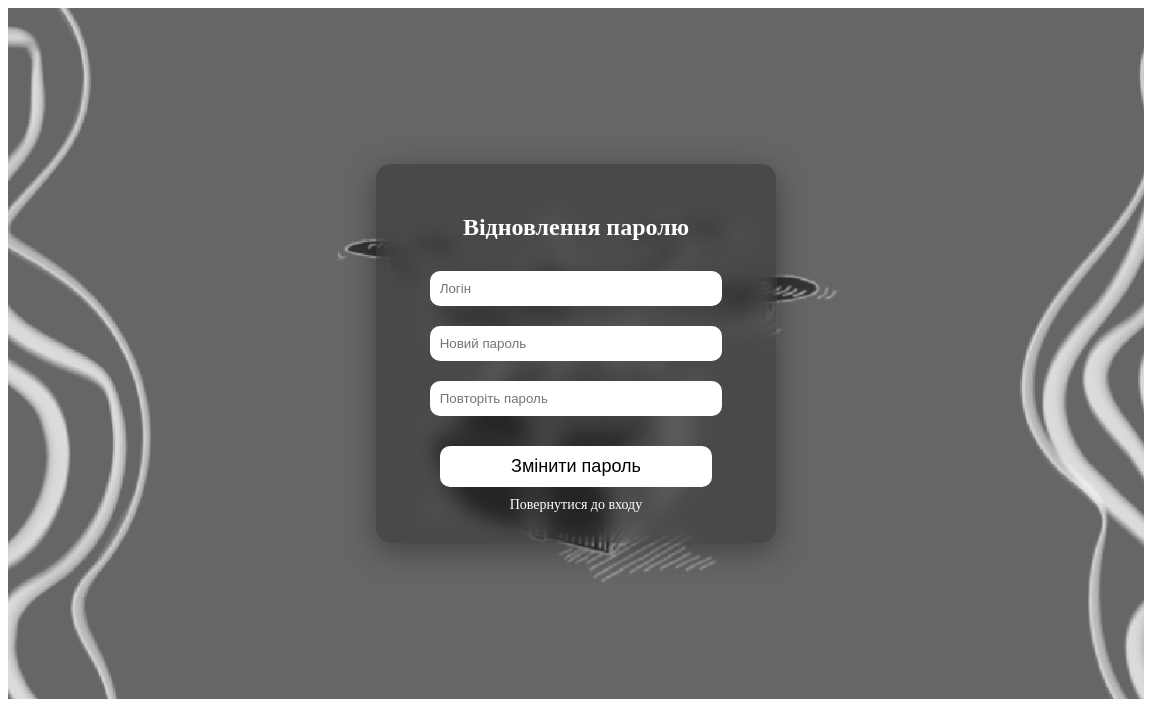
Password Recovery Box › повинен показувати помилку, якщо паролі не співпадають
Type "testuser" into the field with placeholder "Логін" at [577, 289], box [430,271,723,306]
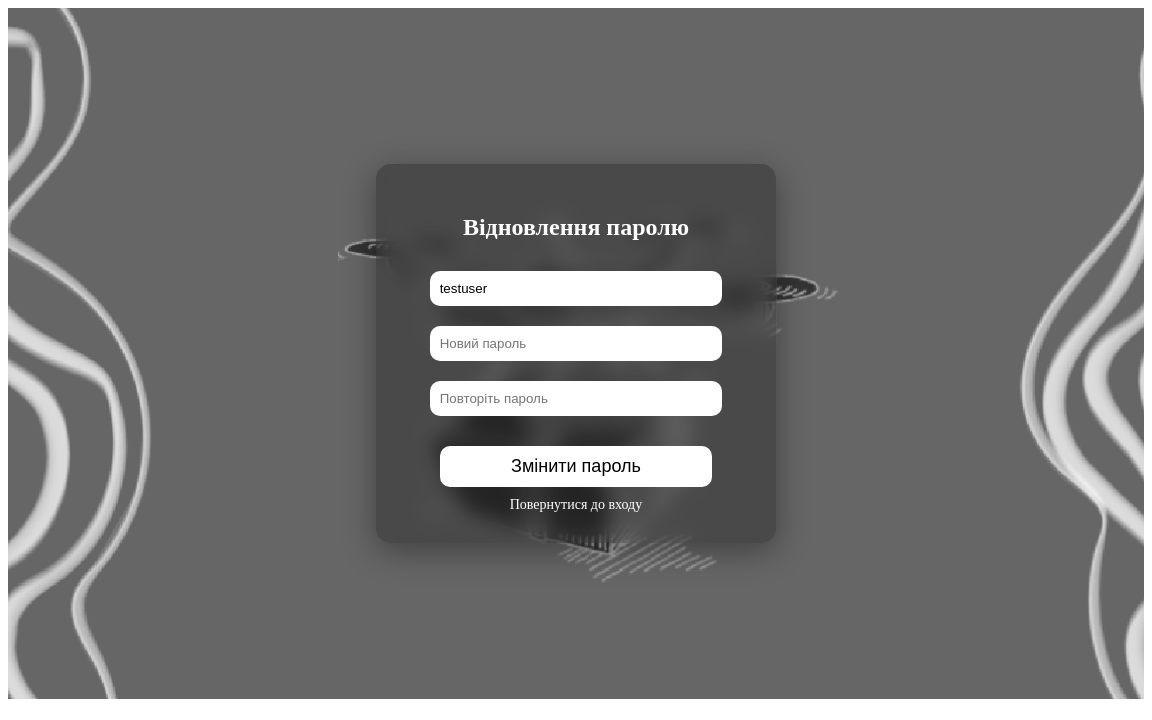
Type "password123" into the password field with placeholder "Новий пароль" at [577, 344], box [430,326,723,361]
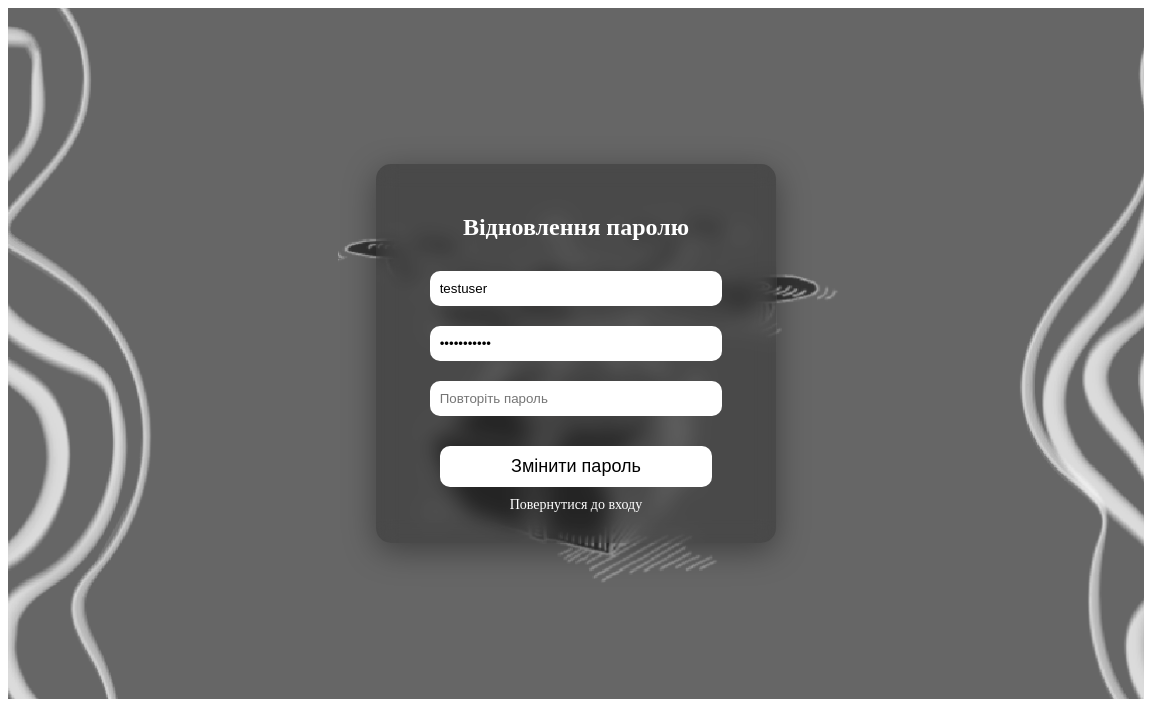
Type "password124" into the password field with placeholder "Повторіть пароль" at [577, 399], box [430,381,723,416]
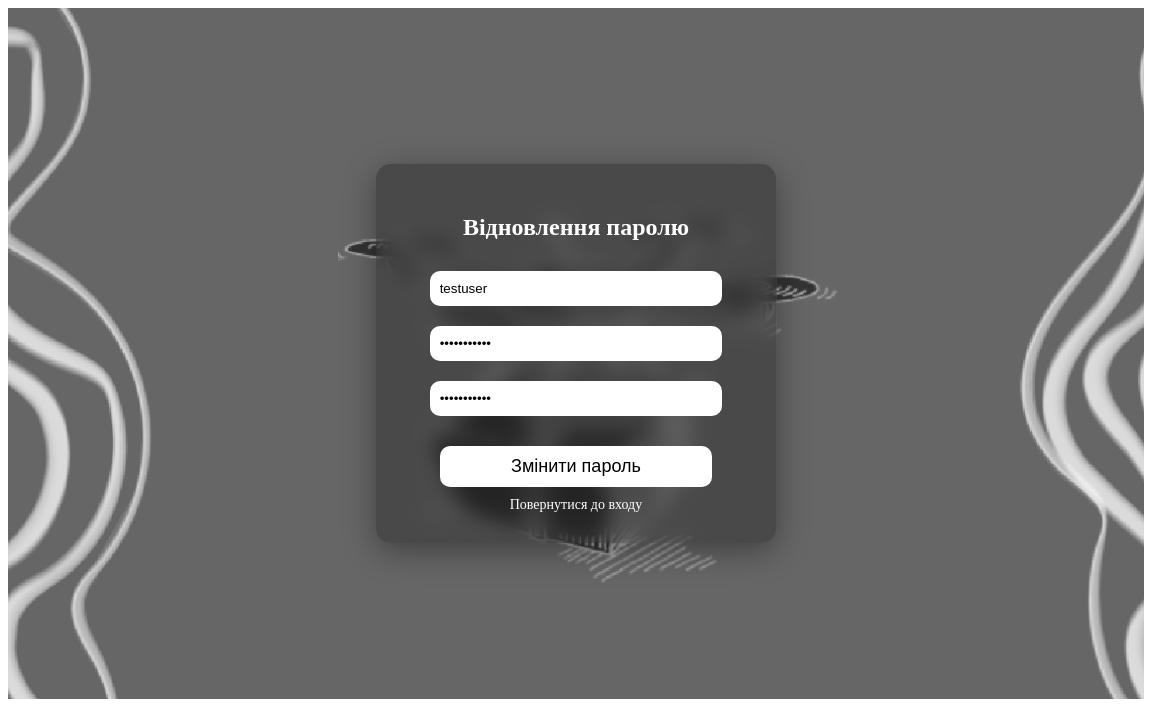
Click the button with class "next-button" at [577, 467], box [440,446,713,487]
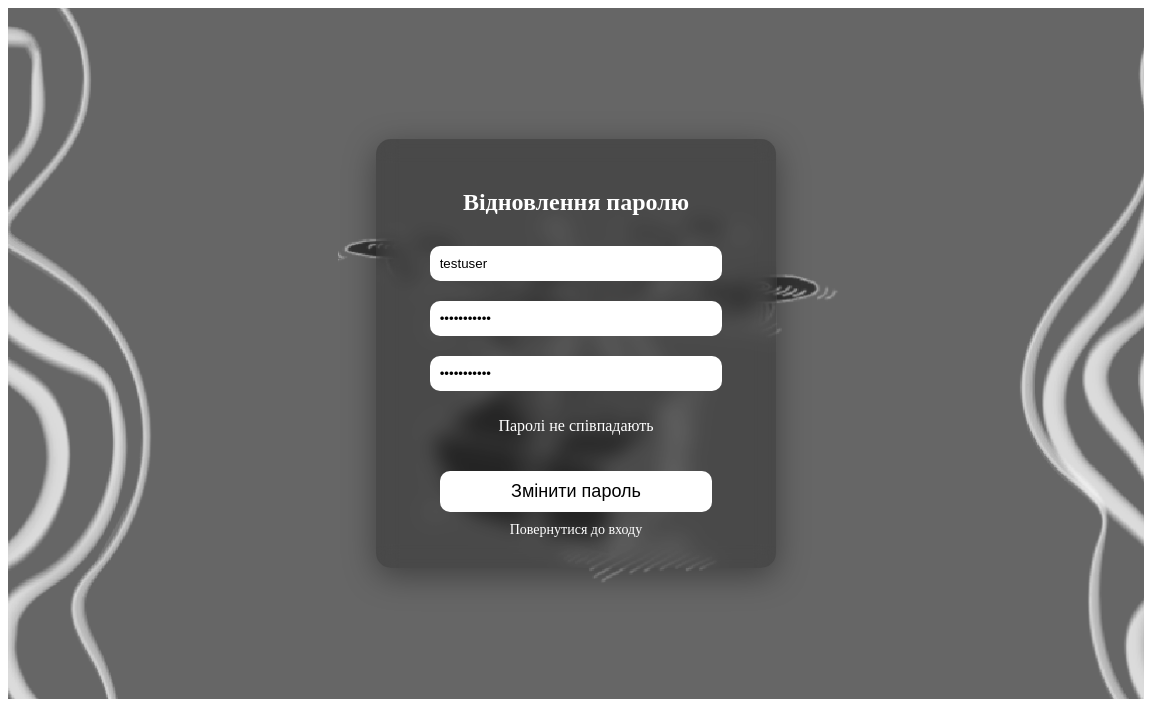
Now the text with class "error-message" reads "Паролі не співпадають", box [498,417,653,434]
